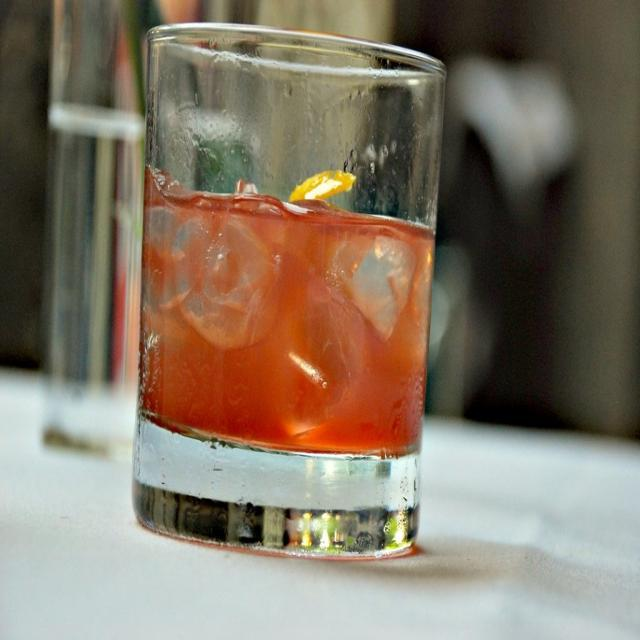Juice: (128, 29, 433, 559)
